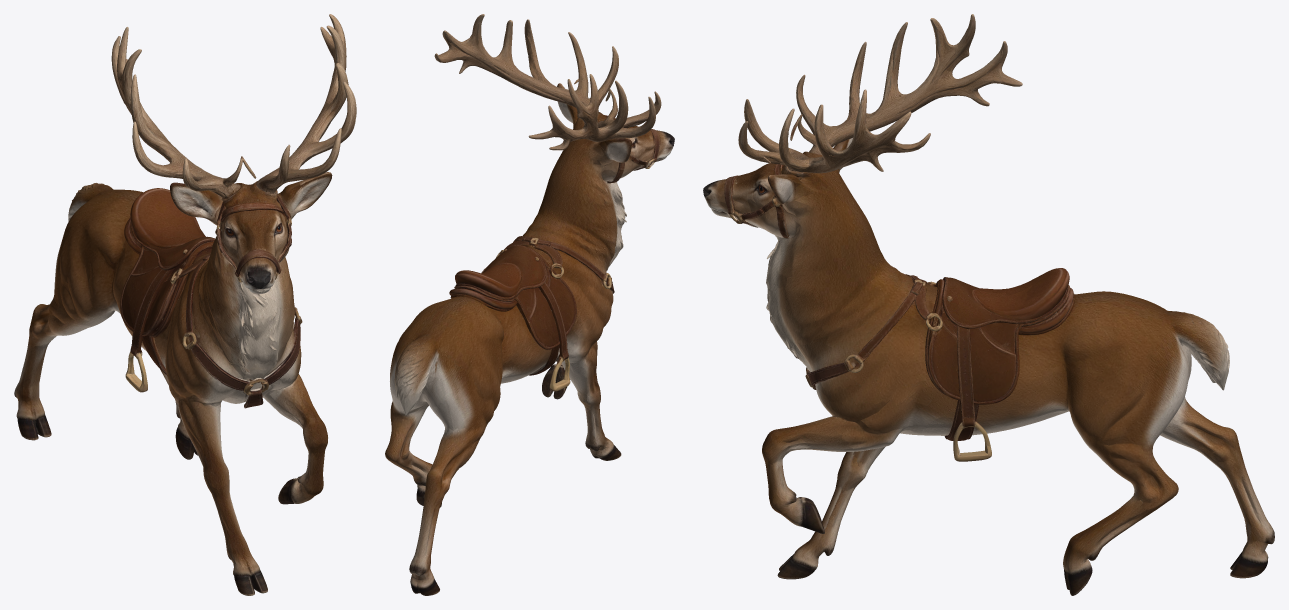
File: stag.glb
The picture shows the model from 3 angles, left to right: view 1: azimuth 30°, elevation 25°; view 2: azimuth 150°, elevation 25°; view 3: azimuth 270°, elevation 25°; orthographic projection. The views are drawn at different scales.
Bounding box in the file's own units: 0.8906 × 1.9 × 1.82.
Materials: 1 (1 with a texture image).
